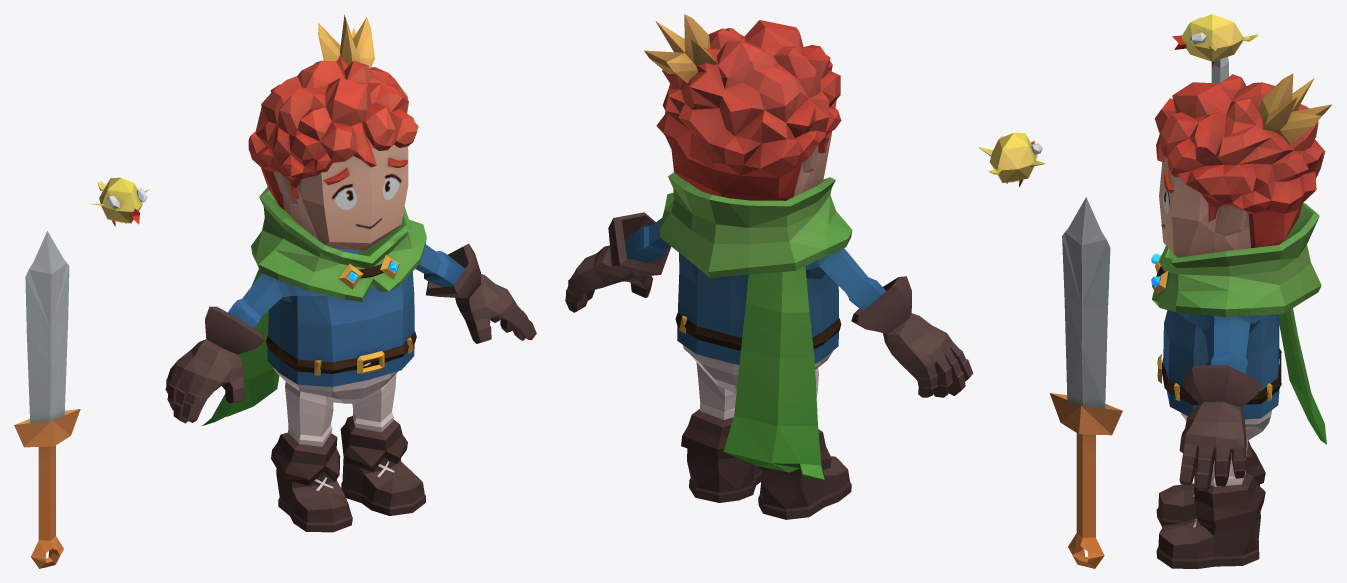
The model's file is avatar-lowpoly.glb.
3 views of the same model, side by side, from view 1: azimuth 30°, elevation 25°; view 2: azimuth 150°, elevation 25°; view 3: azimuth 270°, elevation 25° (orthographic). The views are drawn at different scales.
Visible parts, largest first — view 1: P12_xuanc_SK_Lowpoly_Male_Hair_002_8_StaticMeshComponent0, P12_xuanc_SK_Lowpoly_Male_Weapons_001_A_4_StaticMeshComponen, P12_xuanc_SK_Lowpoly_Male_Weapons_001_B_6_StaticMeshComponen; view 2: P12_xuanc_SK_Lowpoly_Male_Hair_002_8_StaticMeshComponent0, P12_xuanc_SK_Lowpoly_Male_Weapons_001_A_4_StaticMeshComponen, P12_xuanc_SK_Lowpoly_Male_Weapons_001_B_6_StaticMeshComponen; view 3: P12_xuanc_SK_Lowpoly_Male_Hair_002_8_StaticMeshComponent0, P12_xuanc_SK_Lowpoly_Male_Weapons_001_B_6_StaticMeshComponen, P12_xuanc_SK_Lowpoly_Male_Weapons_001_A_4_StaticMeshComponen.
Boxes of the visible parts, <box> form: P12_xuanc_SK_Lowpoly_Male_Hair_002_8_StaticMeshComponent0: <box>165,14,536,532</box>; P12_xuanc_SK_Lowpoly_Male_Weapons_001_A_4_StaticMeshComponen: <box>14,231,80,568</box>; P12_xuanc_SK_Lowpoly_Male_Weapons_001_B_6_StaticMeshComponen: <box>89,177,149,226</box>; P12_xuanc_SK_Lowpoly_Male_Hair_002_8_StaticMeshComponent0: <box>565,14,973,519</box>; P12_xuanc_SK_Lowpoly_Male_Weapons_001_A_4_StaticMeshComponen: <box>1049,197,1122,568</box>; P12_xuanc_SK_Lowpoly_Male_Weapons_001_B_6_StaticMeshComponen: <box>979,132,1045,186</box>; P12_xuanc_SK_Lowpoly_Male_Hair_002_8_StaticMeshComponent0: <box>1151,73,1331,568</box>; P12_xuanc_SK_Lowpoly_Male_Weapons_001_B_6_StaticMeshComponen: <box>1172,14,1258,67</box>; P12_xuanc_SK_Lowpoly_Male_Weapons_001_A_4_StaticMeshComponen: <box>1211,57,1228,83</box>.
Size of the model in its own units: 1.87 by 1.6 by 0.5456.
1 material, 1 textured.
